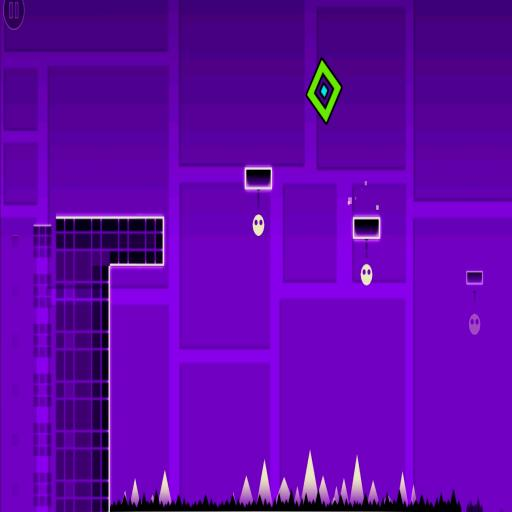block: (49, 208, 169, 511), (238, 164, 277, 195), (350, 208, 384, 242), (30, 222, 52, 264), (31, 370, 53, 412), (30, 424, 53, 462), (30, 470, 53, 508), (31, 319, 52, 360), (32, 271, 52, 312), (464, 267, 486, 290)
player: (307, 59, 342, 124)
spike: (301, 451, 316, 501), (350, 456, 362, 505), (258, 461, 270, 504), (158, 472, 170, 506), (239, 476, 252, 506), (319, 476, 329, 505), (278, 478, 289, 502), (399, 473, 407, 504), (368, 481, 378, 504), (130, 479, 138, 505), (340, 479, 347, 504), (331, 487, 338, 504), (294, 486, 299, 504), (410, 486, 415, 504)
